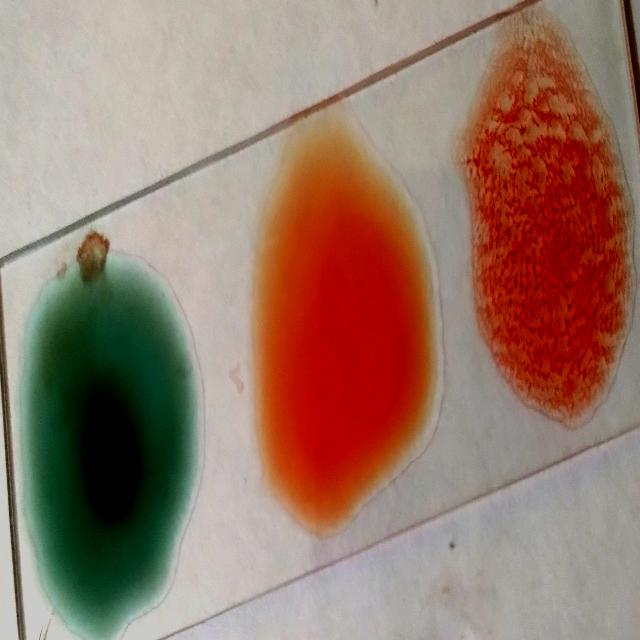D: (479, 14, 617, 422)
